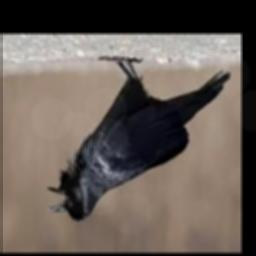Crow: (46, 57, 230, 222)
